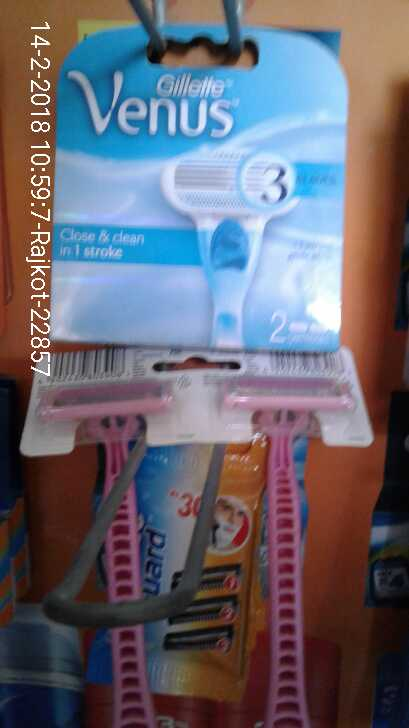venus: (55, 23, 348, 354)
